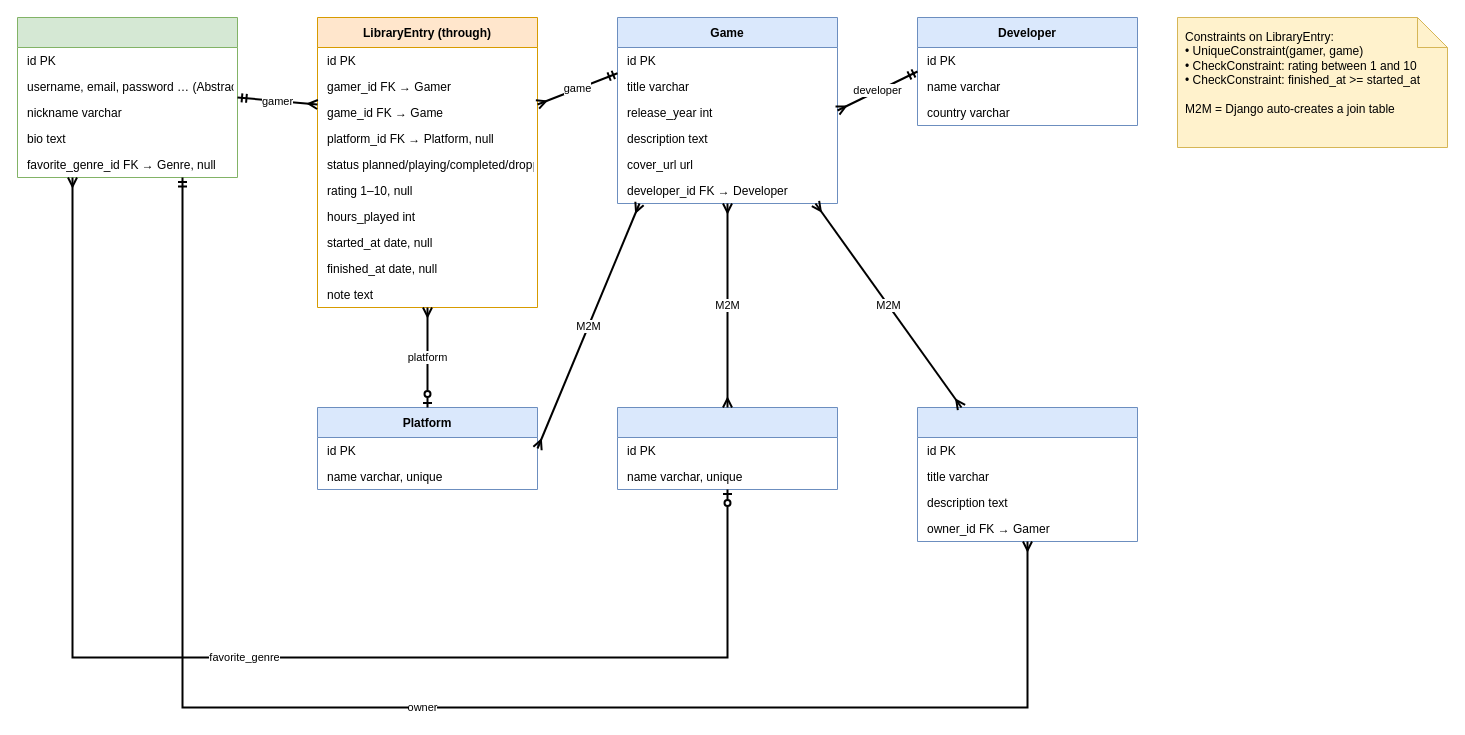
The diagram is 1465 pixels wide and 735 high, and some of its shapes have lost their labels. The box of each missing label's shape, as (x1, y1, x2, y2) in pixels:
Collection: (916, 406, 1138, 542)
Gamer (AbstractUser): (16, 16, 238, 178)
Genre: (616, 406, 838, 490)
